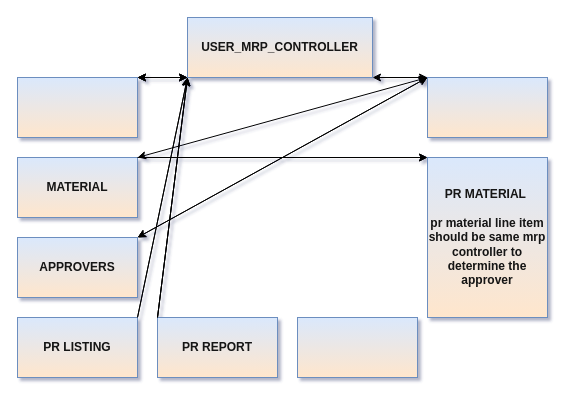
This 571x401 diagram has some shape labels left out. The shapes that lost their labels are listed below. From the top down, each one's centre as x and y in pixels, then its label:
At pixel 77 107: "USER".
At pixel 487 107: "MRP CONTROLLER".
At pixel 357 347: "PR HEADER ADD MRP CTRL".
